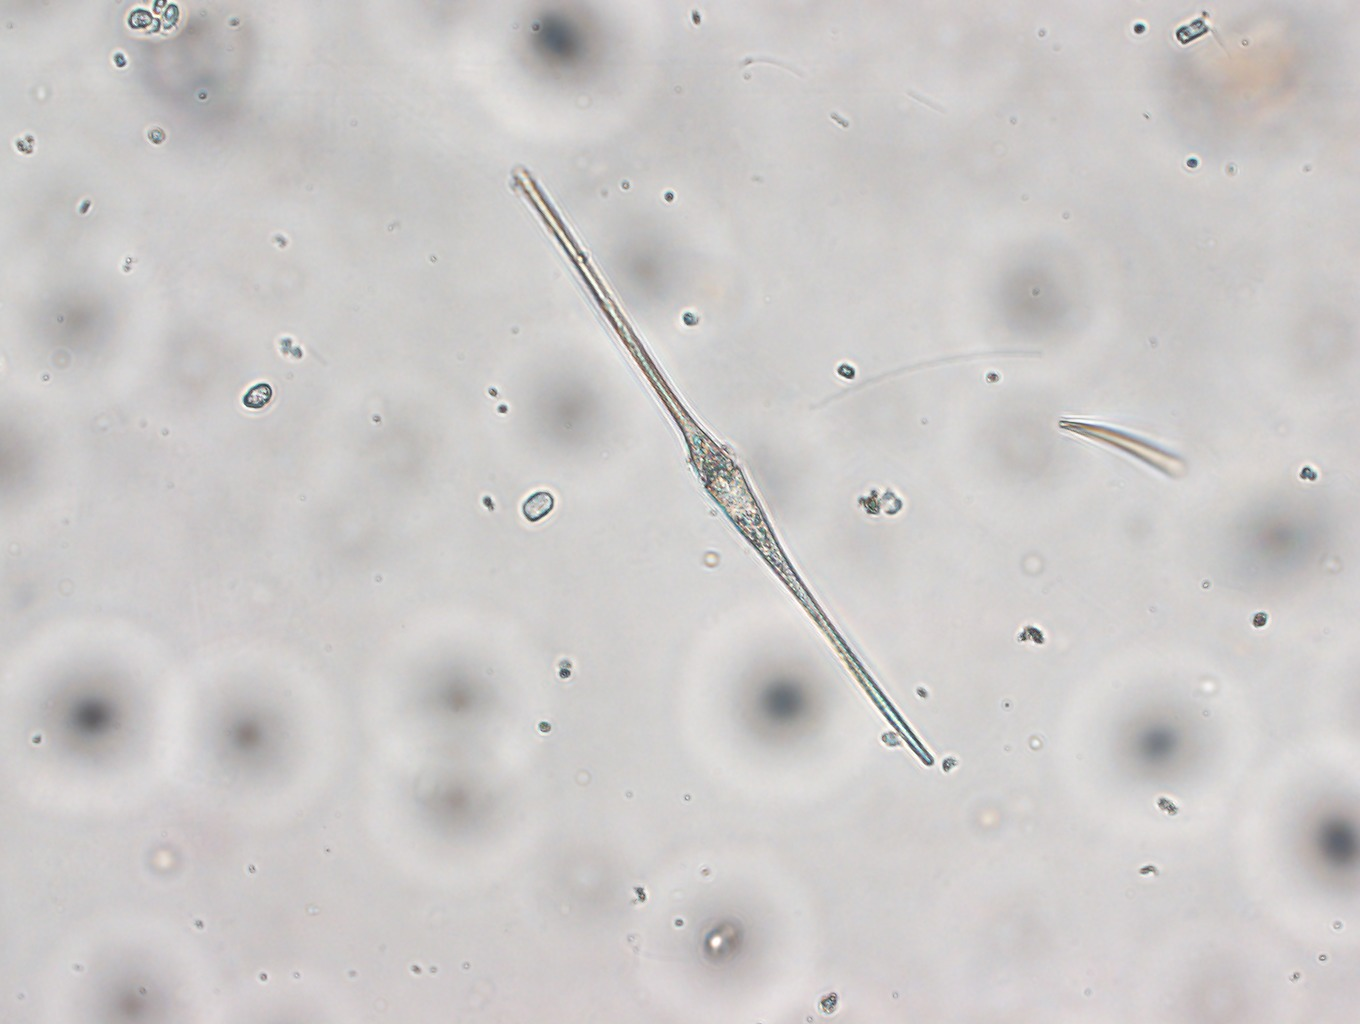ceratium fusus: (509, 161, 939, 767)
